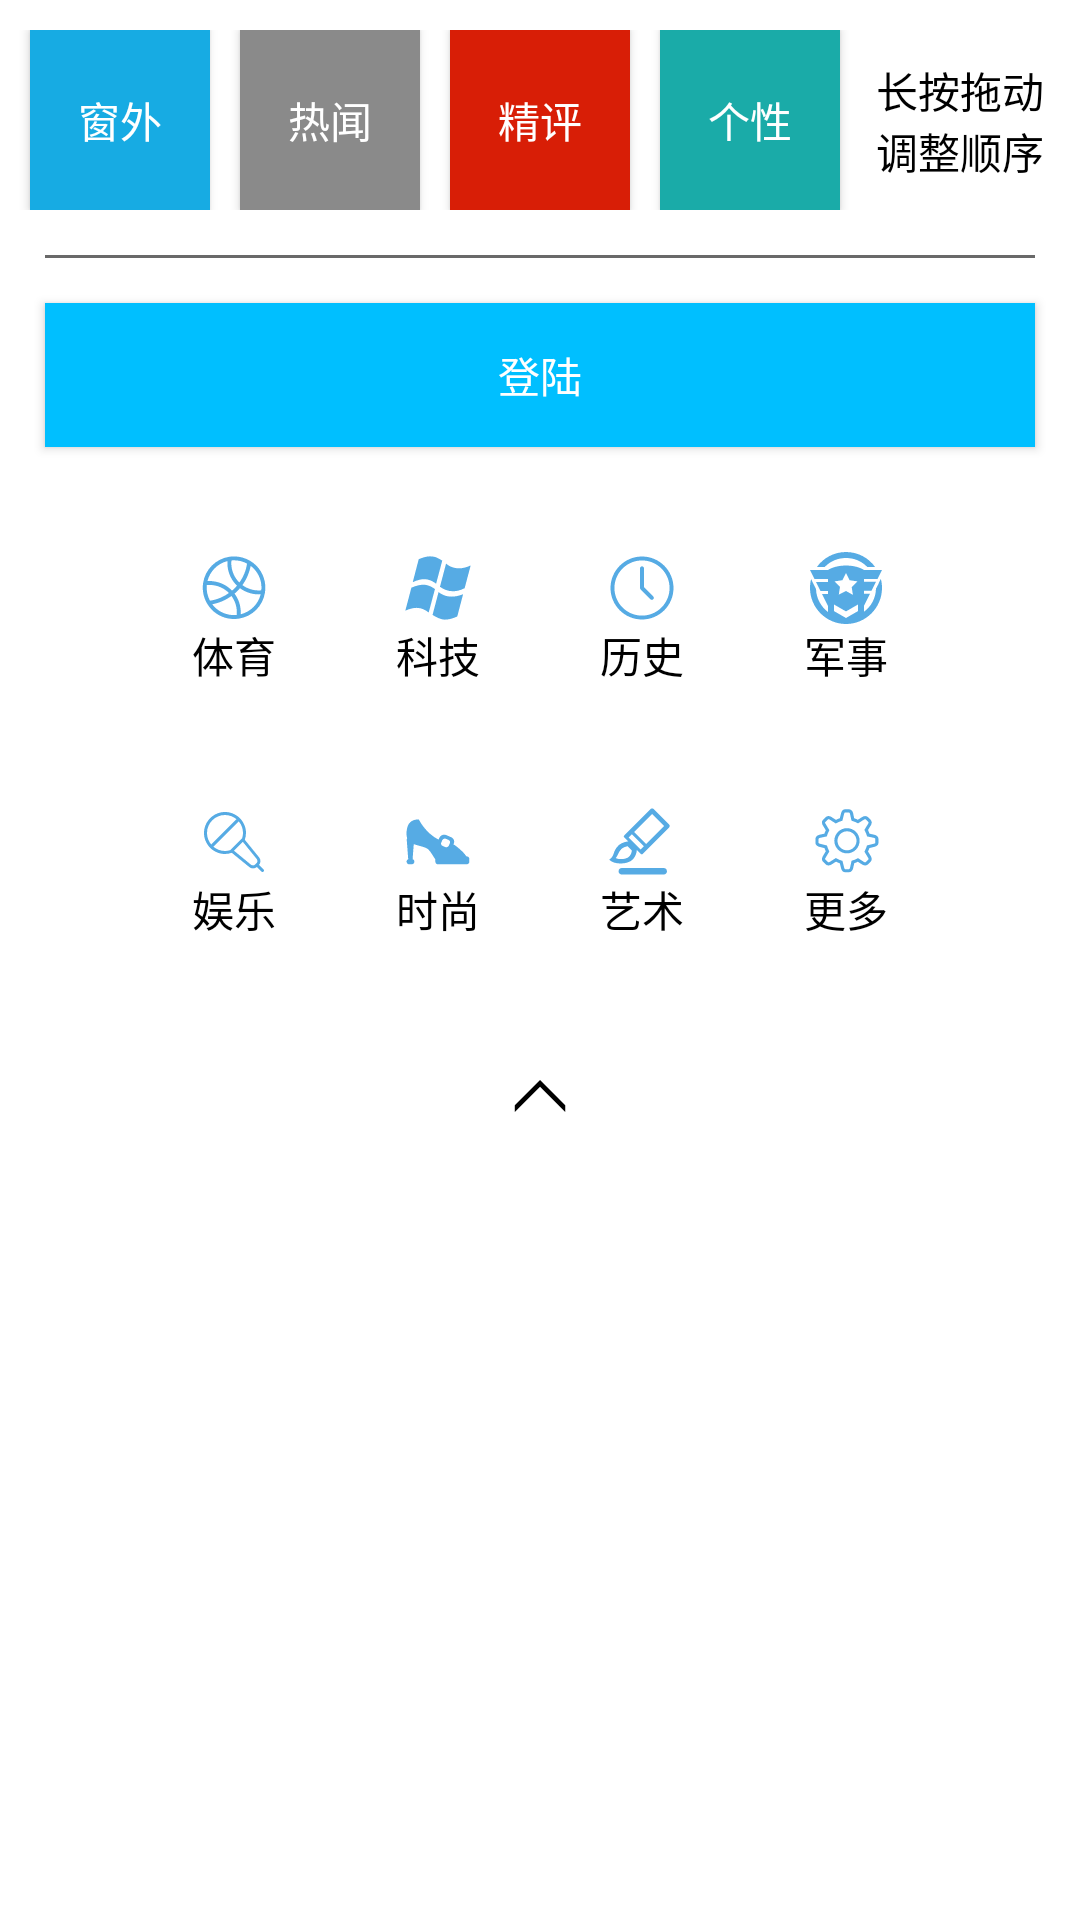

Screen size 1080x1920. Icon name, then its box in pixels as (x1, y1, x2, y2):
settings: (815, 809, 879, 873)
